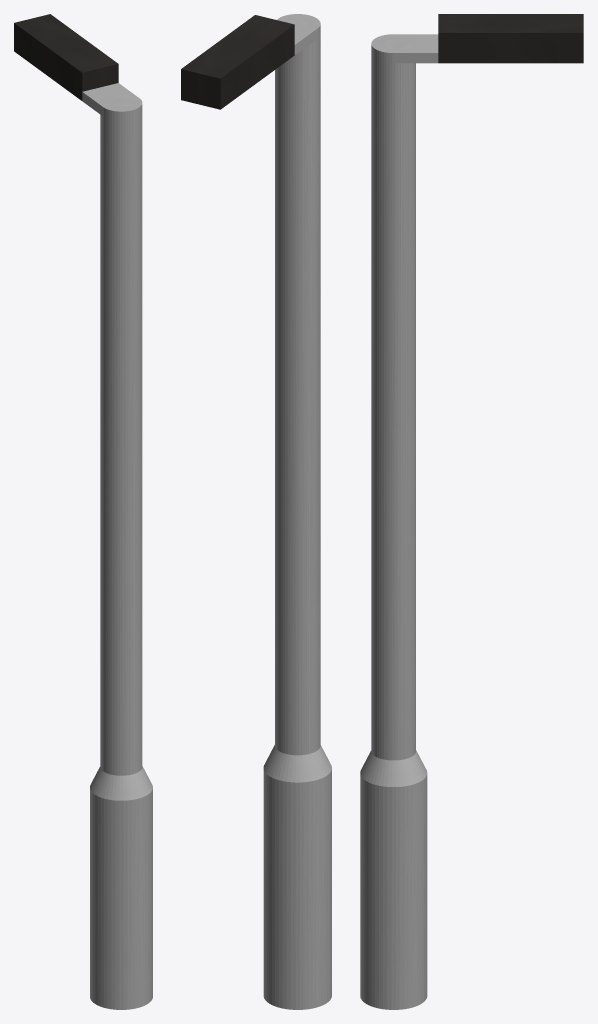
The model's file is generic_station_light.obj.
The picture shows the model from 3 angles, left to right: view 1: azimuth 30°, elevation 25°; view 2: azimuth 150°, elevation 25°; view 3: azimuth 270°, elevation 25°; orthographic projection. The views are drawn at different scales.
Visible parts, largest first — view 1: cylinder, cube, cone; view 2: cylinder, cube, cone; view 3: cylinder, cube, cone.
Part boxes in pixels (box(x1,y1,x2,y2)): cylinder: box(90, 94, 152, 1009); cube: box(14, 14, 138, 115); cone: box(90, 766, 152, 800); cylinder: box(263, 14, 331, 1009); cube: box(181, 15, 317, 109); cone: box(263, 745, 331, 782); cylinder: box(360, 34, 427, 1009); cube: box(394, 14, 583, 63); cone: box(360, 750, 427, 786).
Size of the model in its own units: 0.375 by 6 by 1.25.
